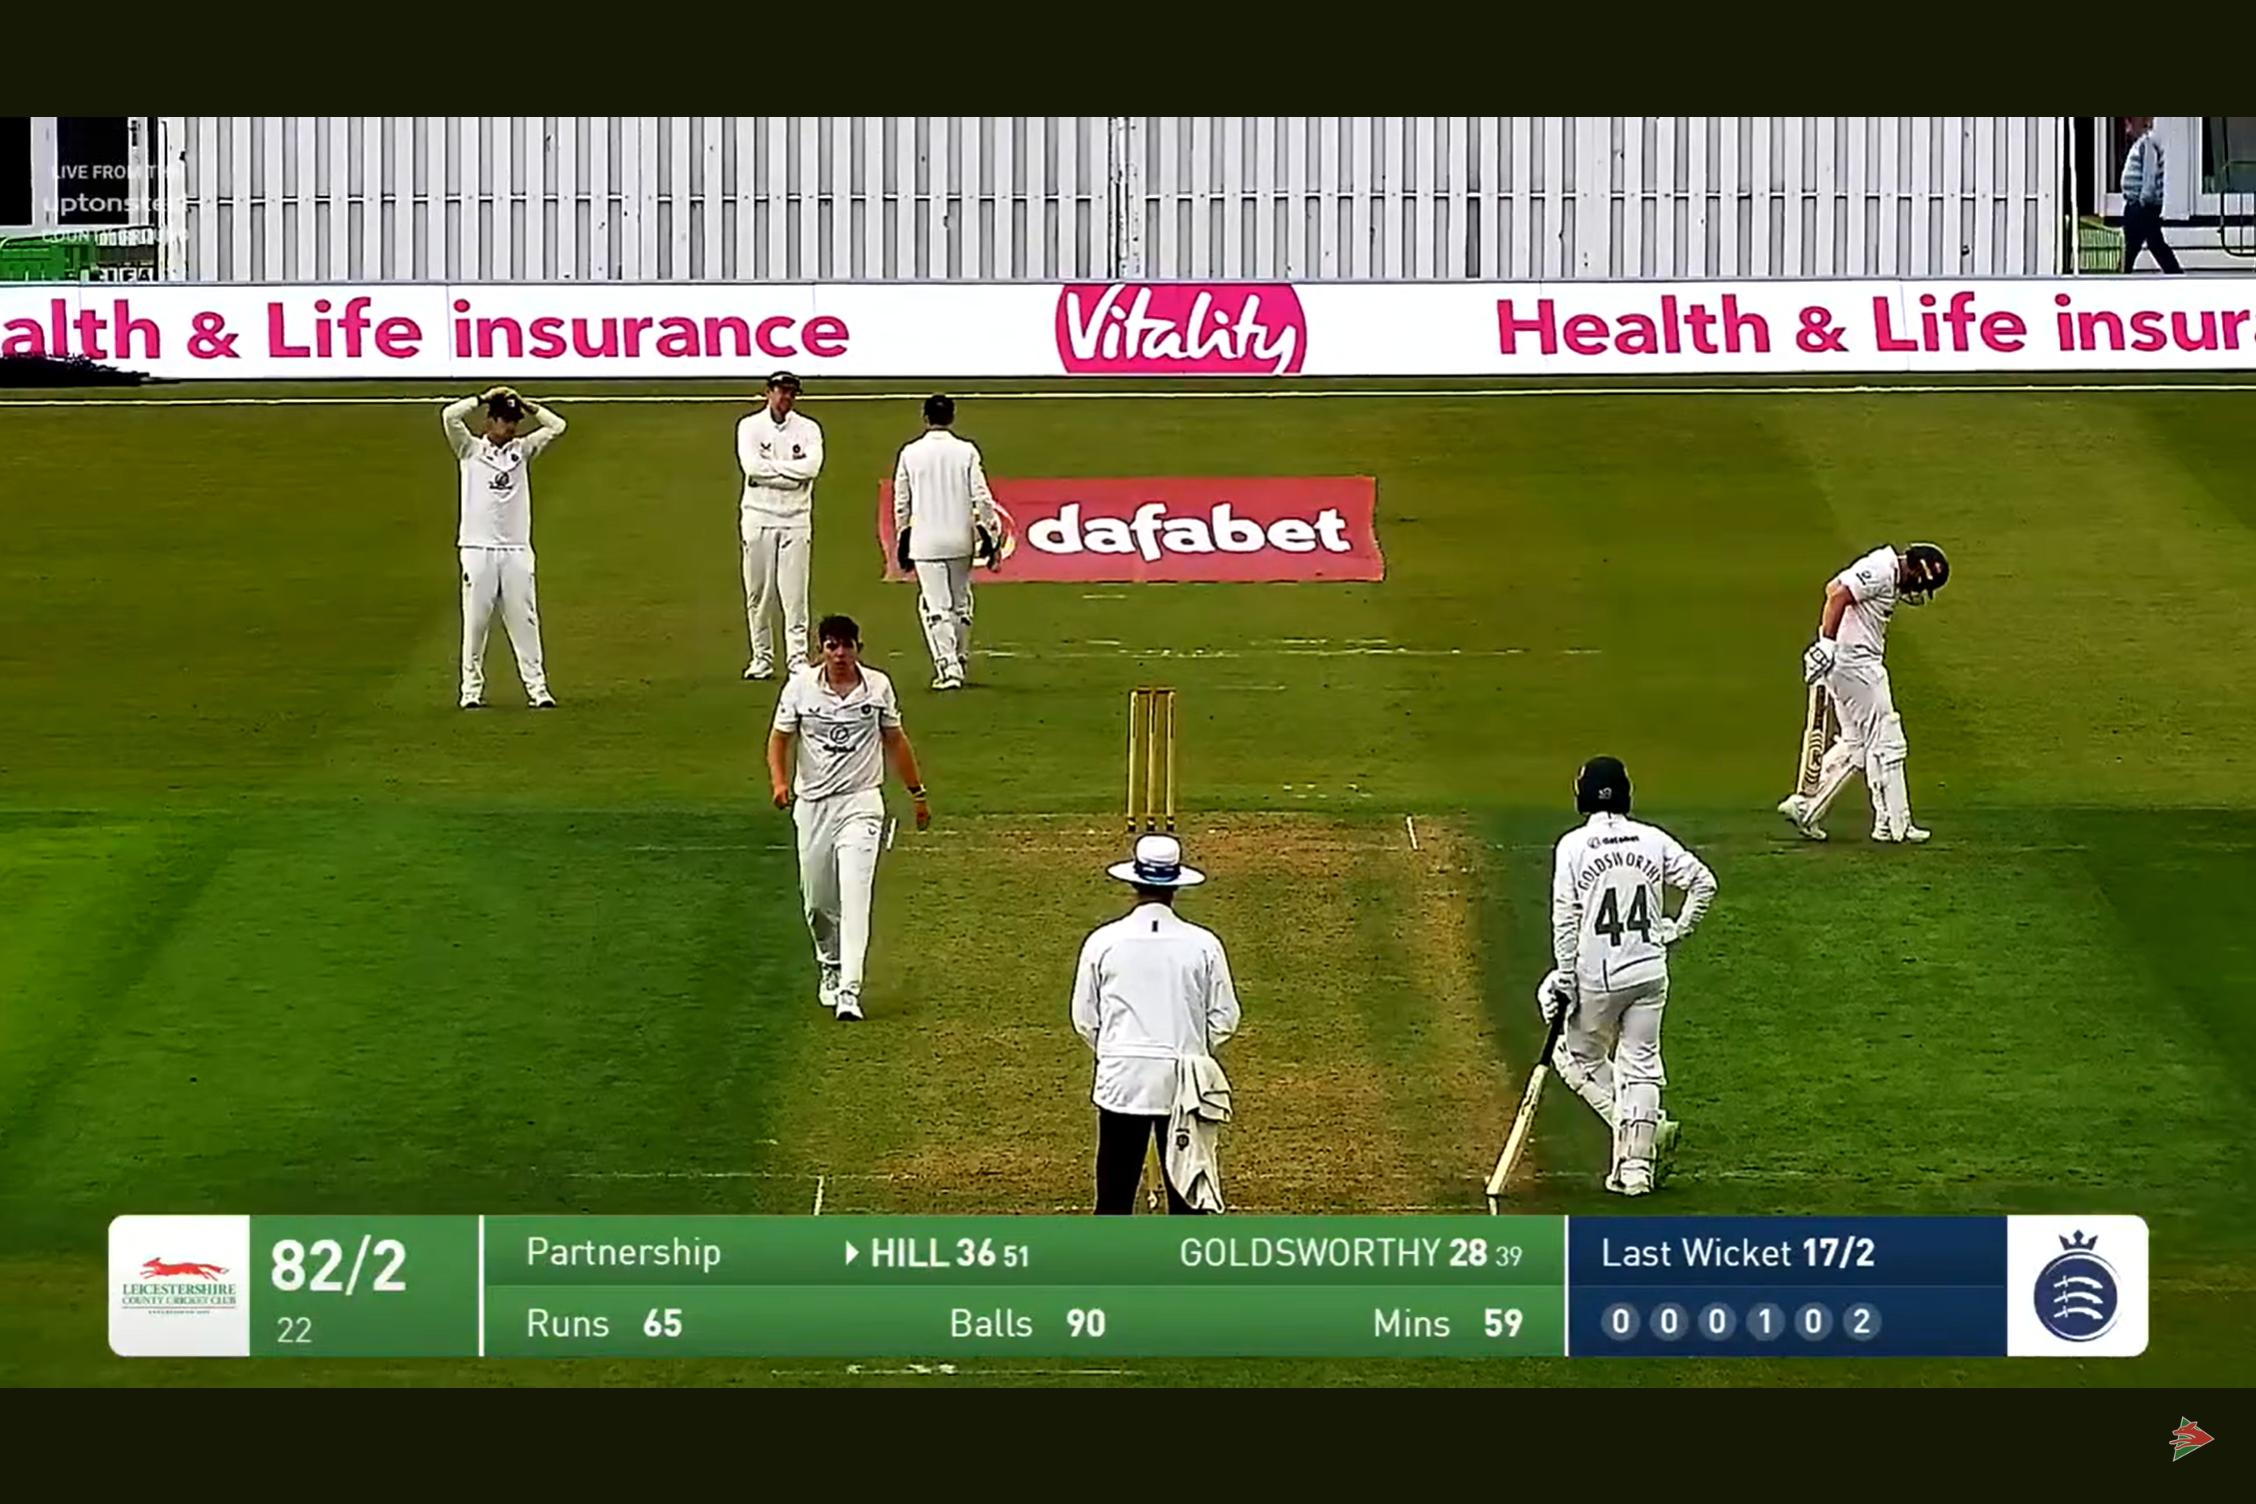batsman: (1773, 514, 2011, 878)
bowler walking back: (762, 621, 922, 1024)
non striker: (1480, 755, 1742, 1193)
stumps: (1088, 673, 1214, 843)
umpire: (1046, 853, 1277, 1219)
wicket keeper: (881, 378, 1016, 603)
